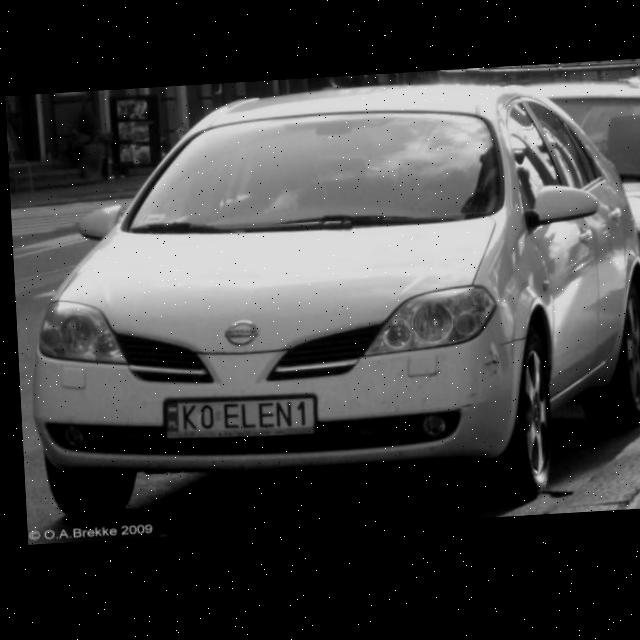license-plates: (165, 397, 316, 440)
